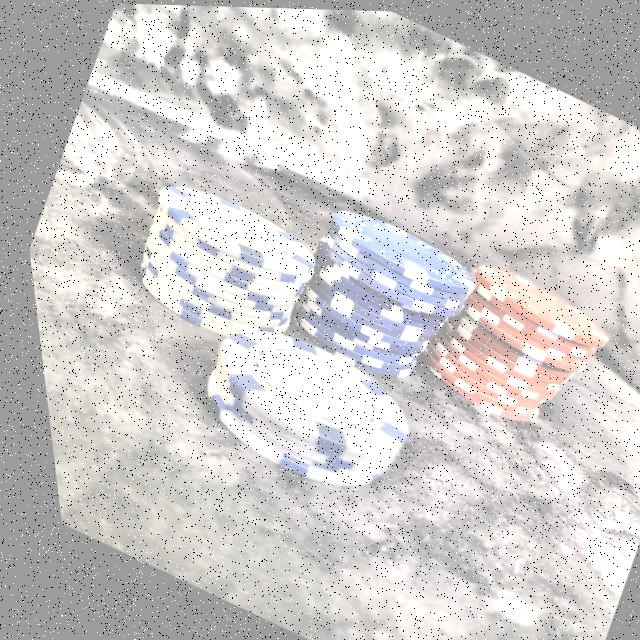Chip: (153, 285, 445, 533), (91, 142, 343, 379), (388, 228, 633, 462), (256, 179, 491, 417)
